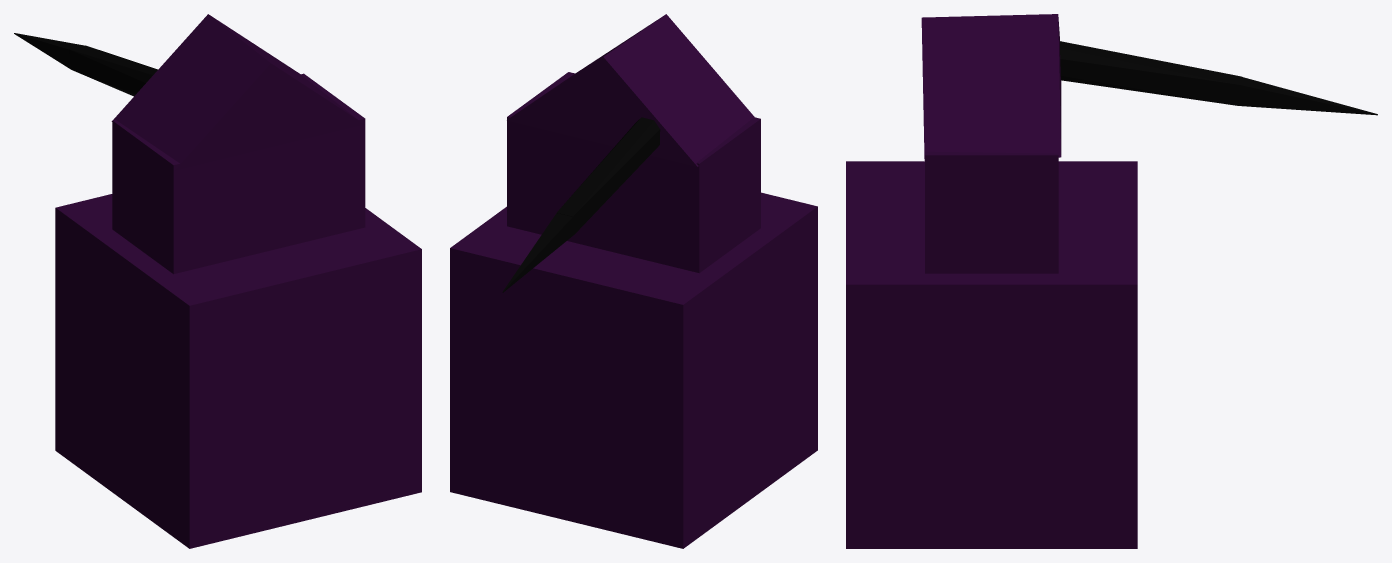
The model's file is protectiontower1 1.fbx.
3 renders of one model, left to right at view 1: azimuth 30°, elevation 25°; view 2: azimuth 150°, elevation 25°; view 3: azimuth 270°, elevation 25°, orthographic. The views are drawn at different scales.
Parts seen in each view (by area): view 1: Cube, Cube.001; view 2: Cube, Cube.001; view 3: Cube, Cube.001.
Part boxes in pixels (bbox=[...]): Cube: bbox=[55, 14, 421, 548]; Cube.001: bbox=[14, 33, 157, 96]; Cube: bbox=[450, 14, 817, 548]; Cube.001: bbox=[502, 117, 660, 292]; Cube: bbox=[846, 14, 1137, 548]; Cube.001: bbox=[1060, 41, 1377, 115].
Bounding box in the file's own units: 765 × 1370 × 1395.
